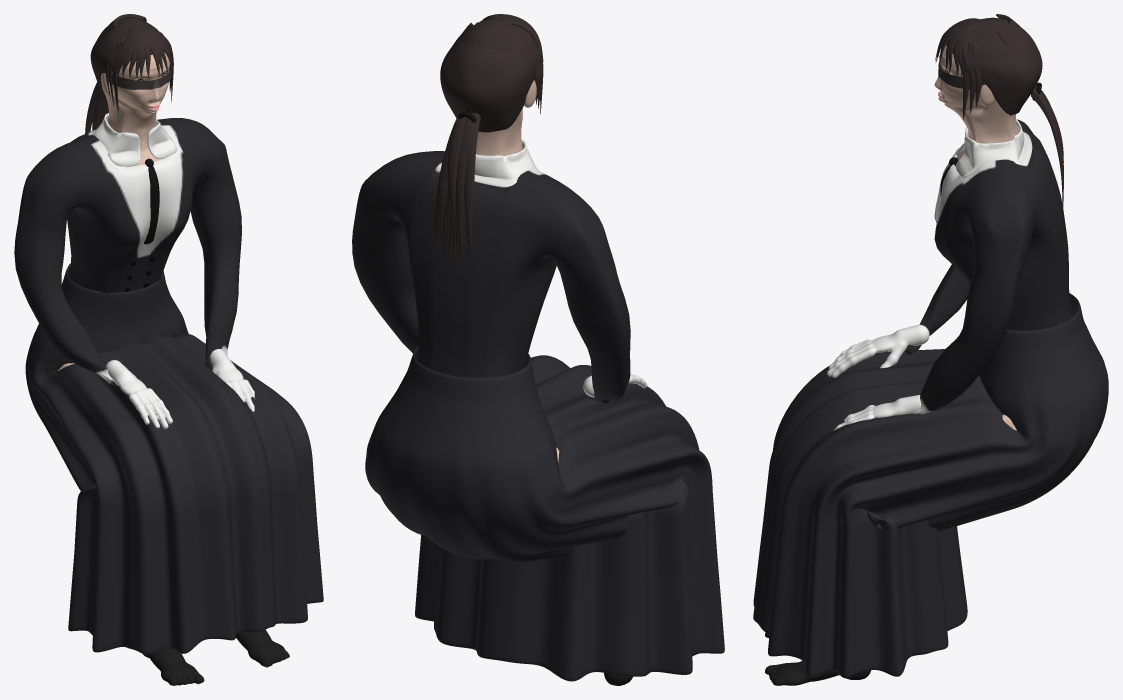
The model's file is SM_FireGirl.fbx.
The picture shows the model from 3 angles, left to right: view 1: azimuth 30°, elevation 25°; view 2: azimuth 150°, elevation 25°; view 3: azimuth 270°, elevation 25°; orthographic projection. The views are drawn at different scales.
Visible parts, largest first — view 1: SM_FireGirl; view 2: SM_FireGirl; view 3: SM_FireGirl.
Boxes of the visible parts, x1,y1,x2,y2 form: SM_FireGirl: (14, 14, 323, 685); SM_FireGirl: (352, 14, 724, 685); SM_FireGirl: (753, 14, 1108, 685).
Size of the model in its own units: 58.03 by 140 by 70.74.
